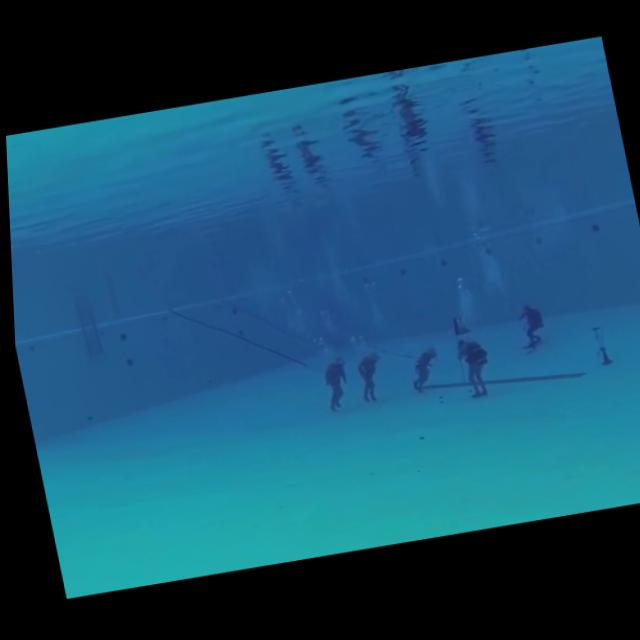human: (444, 329, 499, 406), (342, 343, 390, 410), (310, 349, 356, 418), (397, 336, 446, 400), (506, 295, 551, 357)
